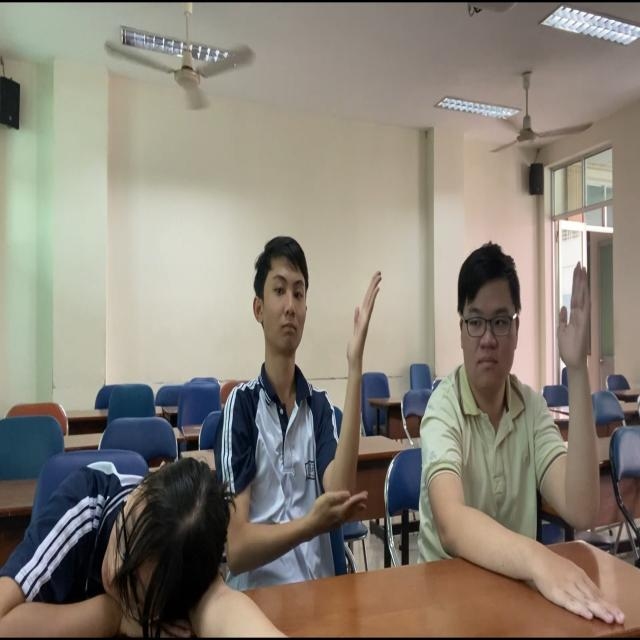raise_hand: (440, 242, 596, 621)
sleep: (1, 444, 240, 636)
